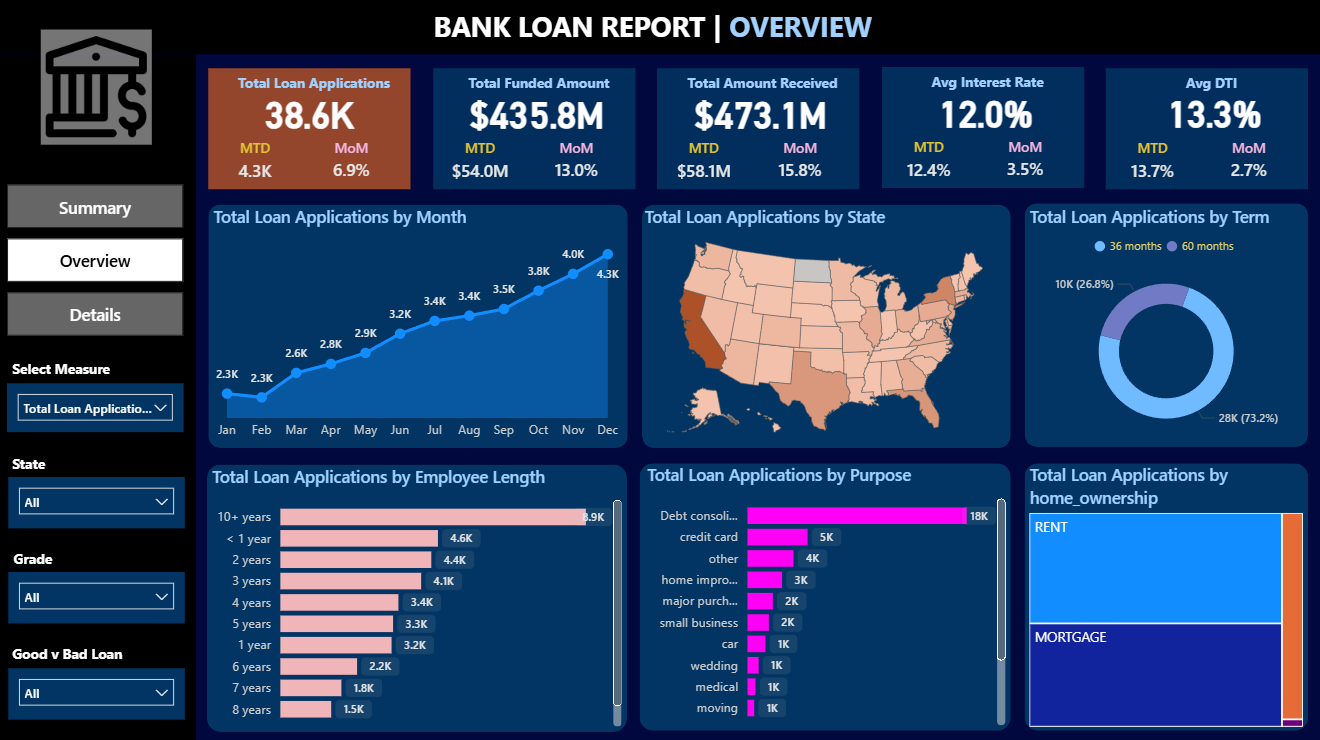

This screenshot's page, from the dashboard's own definition file:
{"tool":"powerbi","page":{"name":"Overview","canvas":[1280,720],"ordinal":1},"visuals":[{"type":"shape","box":[853.6,67.6,195.4,117],"z":0,"group":"g4"},{"type":"shape","box":[203.9,68.8,195.4,117],"z":0,"group":"g1"},{"type":"shape","box":[420.4,68.8,195.4,117],"z":0,"group":"g2"},{"type":"shape","box":[637,68.8,195.4,117],"z":0,"group":"g3"},{"type":"shape","box":[1070.1,68.8,195.4,117],"z":0,"group":"g5"},{"type":"shape","box":[203.9,200.3,405,235],"z":0},{"type":"shape","box":[0,0,1280,55.5],"z":1000},{"type":"card","fields":{"Values":["bank_loan_data.Avg Interest Rate"]},"box":[881.5,86,144.8,49.5],"z":1000,"group":"g4"},{"type":"card","fields":{"Values":["bank_loan_data.Avg DTI"]},"box":[1102.5,86,144.8,49.5],"z":1000,"group":"g5"},{"type":"card","fields":{"Values":["bank_loan_data.Total Loan Applications"]},"box":[240.1,86.9,123.1,49.5],"z":1000,"group":"g1"},{"type":"card","fields":{"Values":["bank_loan_data.Total Funded Amount"]},"box":[448.3,87.2,144.8,49.5],"z":1000,"group":"g2"},{"type":"card","fields":{"Values":["bank_loan_data.Total Amount Received"]},"box":[664.9,87.2,144.8,49.5],"z":1000,"group":"g3"},{"type":"shape","box":[0,55.5,192,664.7],"z":2000},{"type":"textbox","box":[870.5,67.6,170.1,32.6],"z":2000,"group":"g4"},{"type":"textbox","box":[220.8,68.8,170.1,32.6],"z":2000,"group":"g1"},{"type":"textbox","box":[437.3,68.8,170.1,32.6],"z":2000,"group":"g2"},{"type":"textbox","box":[653.9,68.8,170.1,32.6],"z":2000,"group":"g3"},{"type":"textbox","box":[1087,68.8,170.1,32.6],"z":2000,"group":"g5"},{"type":"textbox","box":[416.2,4.8,448.8,47.1],"z":3000},{"type":"card","title":"MTD","fields":{"Values":["bank_loan_data.MTD Avg Int Rate"]},"box":[853.6,135.2,90.5,49.5],"z":3000,"group":"g4"},{"type":"card","title":"MTD","fields":{"Values":["bank_loan_data.MTD Loan Applications"]},"box":[203.9,136.4,90.5,49.5],"z":3000,"group":"g1"},{"type":"card","title":"MTD","fields":{"Values":["bank_loan_data.MTD Funded Amount"]},"box":[420.4,136.4,90.5,49.5],"z":3000,"group":"g2"},{"type":"card","title":"MTD","fields":{"Values":["bank_loan_data.MTD Total Amount Received"]},"box":[637,136.4,90.5,49.5],"z":3000,"group":"g3"},{"type":"card","title":"MTD","fields":{"Values":["bank_loan_data.MTD Avg DTI"]},"box":[1070.1,136.4,90.5,49.5],"z":3000,"group":"g5"},{"type":"group","id":"g1","title":"Group 1","box":[203.9,68.8,195.4,117],"z":4000},{"type":"card","title":"MoM","fields":{"Values":["bank_loan_data.MoM Avg Int Rate"]},"box":[951.3,135.2,80.8,48.3],"z":4000,"group":"g4"},{"type":"card","title":"MoM","fields":{"Values":["bank_loan_data.MoM Loan Applications"]},"box":[301.6,136.4,80.8,48.3],"z":4000,"group":"g1"},{"type":"card","title":"MoM","fields":{"Values":["bank_loan_data.MoM Total Funded Amount"]},"box":[518.1,136.4,80.8,48.3],"z":4000,"group":"g2"},{"type":"card","title":"MoM","fields":{"Values":["bank_loan_data.MoM Total Amount Received"]},"box":[734.7,136.4,80.8,48.3],"z":4000,"group":"g3"},{"type":"card","title":"MoM","fields":{"Values":["bank_loan_data.MoM Avg DTI"]},"box":[1167.8,136.4,80.8,48.3],"z":4000,"group":"g5"},{"type":"group","id":"g2","title":"Group 1","box":[420.4,68.8,195.4,117],"z":5000},{"type":"group","id":"g3","title":"Group 1","box":[637,68.8,195.4,117],"z":6000},{"type":"group","id":"g4","title":"Group 1","box":[853.6,67.6,195.4,117],"z":7000},{"type":"group","id":"g5","title":"Group 1","box":[1070.1,68.8,195.4,117],"z":8000},{"type":"slicer","fields":{"Values":["bank_loan_data.address_state"]},"box":[10.9,462.9,170.1,49.5],"z":9000},{"type":"textbox","box":[9.7,436.7,55.5,30.2],"z":10000},{"type":"slicer","fields":{"Values":["bank_loan_data.grade"]},"box":[10.9,555.3,170.1,49.5],"z":11000},{"type":"textbox","box":[10.9,528.4,56.7,30.2],"z":12000},{"type":"textbox","box":[9.7,620.1,139.9,30.2],"z":13000},{"type":"slicer","fields":{"Values":["bank_loan_data.Good v Bad Loan"]},"box":[10.9,647.7,170.1,49.5],"z":14000},{"type":"slicer","fields":{"Values":["Select Measure.Select Measure"]},"box":[9.7,372.9,170.1,47.1],"z":15000},{"type":"textbox","box":[9.7,345,114.6,30.2],"z":16000},{"type":"shape","box":[622.3,200.3,355.9,235.3],"z":17000},{"type":"lineChart","fields":{"Y":["bank_loan_data.Total Loan Applications"],"Category":["Date Table.Month"]},"box":[203.9,200.3,404.2,235.3],"z":18000},{"type":"shapeMap","fields":{"Category":["bank_loan_data.address_state"],"Value":["bank_loan_data.Total Loan Applications"]},"box":[620.1,200.3,358.3,235.3],"z":19000},{"type":"shape","box":[991.7,199.1,273.9,235.3],"z":20000},{"type":"donutChart","fields":{"Category":["bank_loan_data.term"],"Y":["bank_loan_data.Total Loan Applications"]},"box":[991.7,200.3,273.9,234],"z":20001},{"type":"shape","box":[202.7,451.2,405.4,258.2],"z":20002},{"type":"barChart","fields":{"Category":["bank_loan_data.emp_length"],"Y":["bank_loan_data.Total Loan Applications"]},"box":[202.7,451.2,405.4,258.2],"z":20003},{"type":"shape","box":[620.1,450,358.3,258.2],"z":20004},{"type":"barChart","fields":{"Category":["bank_loan_data.purpose"],"Y":["bank_loan_data.Total Loan Applications"]},"box":[622.5,450,355.9,258.2],"z":20005},{"type":"shape","box":[991.7,450,273.9,258.2],"z":20006},{"type":"treemap","fields":{"Values":["bank_loan_data.Total Loan Applications"],"Group":["bank_loan_data.home_ownership"]},"box":[991.7,450,273.9,259.4],"z":20007},{"type":"pageNavigator","box":[9.7,181,170.1,147.2],"z":20008},{"type":"image","box":[42.2,31.4,107.4,111],"z":20009}]}

Visuals, with their boxes in screenshot pixels (x1, y1, x2, y2), scaled from the page's 1280x720 canvas onto the 1320x740 screenshot:
shape: 880,69,1082,190
shape: 210,71,412,191
shape: 434,71,635,191
shape: 657,71,858,191
shape: 1104,71,1305,191
shape: 210,206,628,447
shape: 0,0,1319,57
card - bank_loan_data.Avg Interest Rate: 909,88,1058,139
card - bank_loan_data.Avg DTI: 1137,88,1286,139
card - bank_loan_data.Total Loan Applications: 248,89,375,140
card - bank_loan_data.Total Funded Amount: 462,90,612,140
card - bank_loan_data.Total Amount Received: 686,90,835,140
shape: 0,57,198,739
textbox: 898,69,1073,103
textbox: 228,71,403,104
textbox: 451,71,626,104
textbox: 674,71,850,104
textbox: 1121,71,1296,104
textbox: 429,5,892,53
"MTD" card: 880,139,974,190
"MTD" card: 210,140,304,191
"MTD" card: 434,140,527,191
"MTD" card: 657,140,750,191
"MTD" card: 1104,140,1197,191
"Group 1" group: 210,71,412,191
"MoM" card: 981,139,1064,189
"MoM" card: 311,140,394,190
"MoM" card: 534,140,618,190
"MoM" card: 758,140,841,190
"MoM" card: 1204,140,1288,190
"Group 1" group: 434,71,635,191
"Group 1" group: 657,71,858,191
"Group 1" group: 880,69,1082,190
"Group 1" group: 1104,71,1305,191
slicer - bank_loan_data.address_state: 11,476,187,527
textbox: 10,449,67,480
slicer - bank_loan_data.grade: 11,571,187,622
textbox: 11,543,70,574
textbox: 10,637,154,668
slicer - bank_loan_data.Good v Bad Loan: 11,666,187,717
slicer - Select Measure.Select Measure: 10,383,185,432
textbox: 10,355,128,386
shape: 642,206,1009,448
lineChart - bank_loan_data.Total Loan Applications x Date Table.Month: 210,206,627,448
shapeMap - bank_loan_data.address_state x bank_loan_data.Total Loan Applications: 639,206,1009,448
shape: 1023,205,1305,446
donutChart - bank_loan_data.term x bank_loan_data.Total Loan Applications: 1023,206,1305,446
shape: 209,464,627,729
barChart - bank_loan_data.emp_length x bank_loan_data.Total Loan Applications: 209,464,627,729
shape: 639,462,1009,728
barChart - bank_loan_data.purpose x bank_loan_data.Total Loan Applications: 642,462,1009,728
shape: 1023,462,1305,728
treemap - bank_loan_data.Total Loan Applications x bank_loan_data.home_ownership: 1023,462,1305,729
pageNavigator: 10,186,185,337
image: 44,32,154,146
